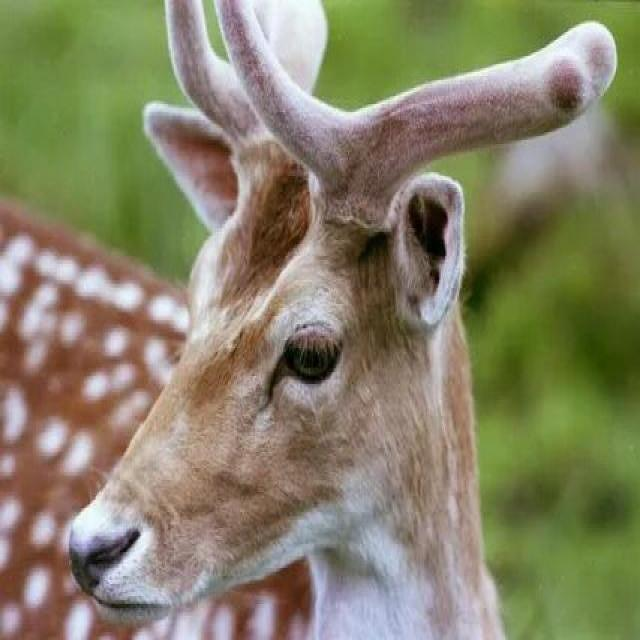deer: (62, 0, 574, 640)
